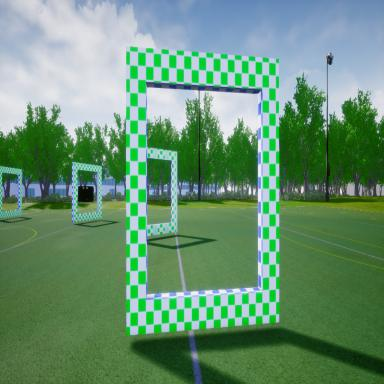gate: (124, 36, 282, 339), (69, 157, 107, 228), (0, 165, 23, 219)
